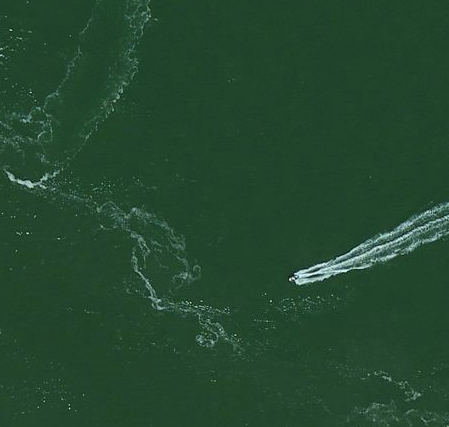ship: (286, 272, 301, 284)
